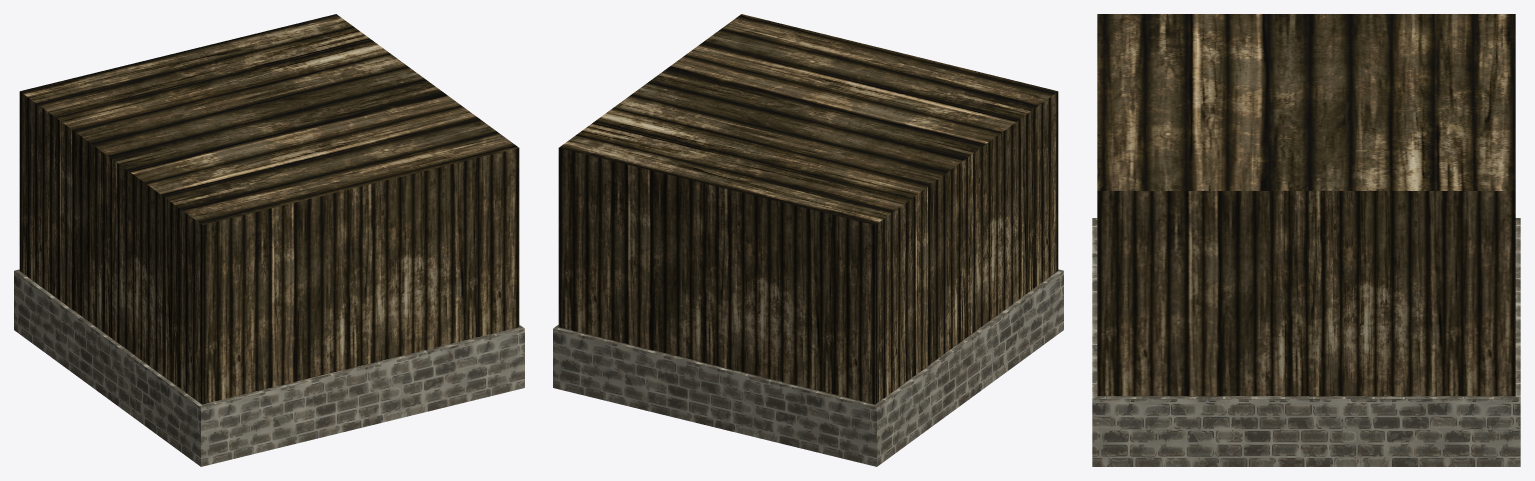
The model's file is building-shape-1.glb.
The picture shows the model from 3 angles, left to right: view 1: azimuth 30°, elevation 25°; view 2: azimuth 150°, elevation 25°; view 3: azimuth 270°, elevation 25°; orthographic projection. The views are drawn at different scales.
Parts seen in each view (by area): view 1: Building_Shape_1; view 2: Building_Shape_1; view 3: Building_Shape_1.
Boxes of the visible parts, x1,y1,x2,y2 form: Building_Shape_1: [14, 14, 524, 466]; Building_Shape_1: [553, 14, 1063, 466]; Building_Shape_1: [1092, 14, 1520, 466].
Size of the model in its own units: 4.26 by 3.01 by 4.26.
Materials: 1 (1 with a texture image).
